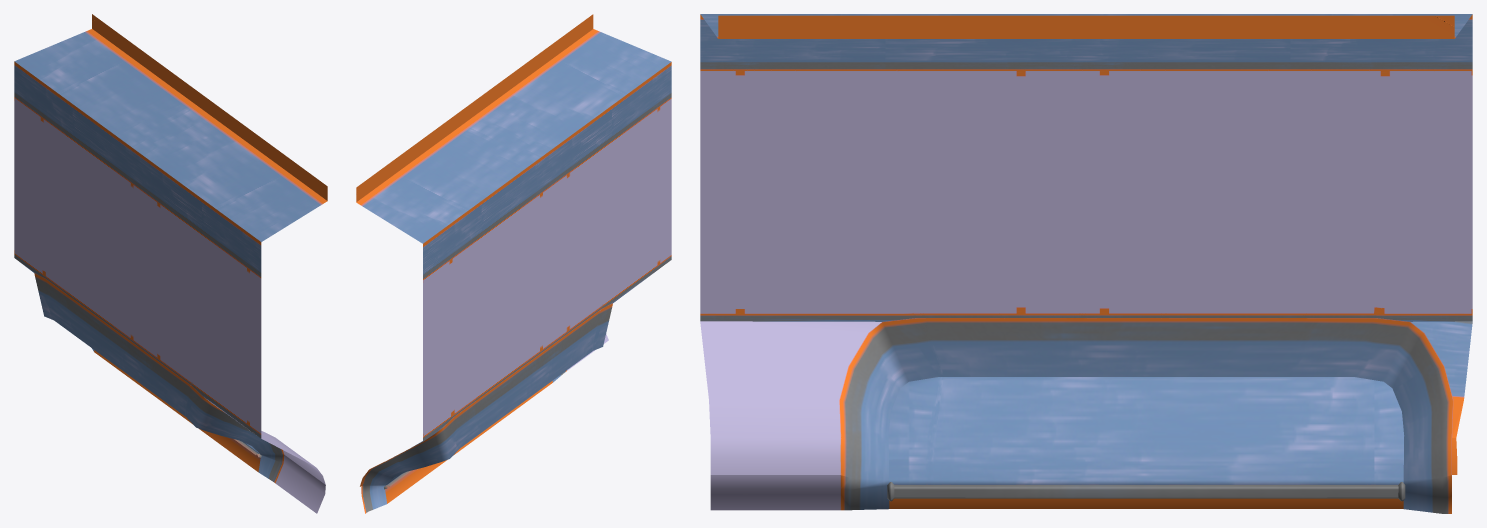
The model's file is wall_L.fbx.
The picture shows the model from 3 angles, left to right: view 1: azimuth 30°, elevation 25°; view 2: azimuth 150°, elevation 25°; view 3: azimuth 270°, elevation 25°; orthographic projection. The views are drawn at different scales.
Visible parts, largest first — view 1: wall_L; view 2: wall_L; view 3: wall_L.
Part boxes in pixels (<box>): wall_L: <box>14,14,327,513</box>; wall_L: <box>356,14,671,513</box>; wall_L: <box>700,14,1472,513</box>.
Bounding box in the file's own units: 102 × 437 × 606.
